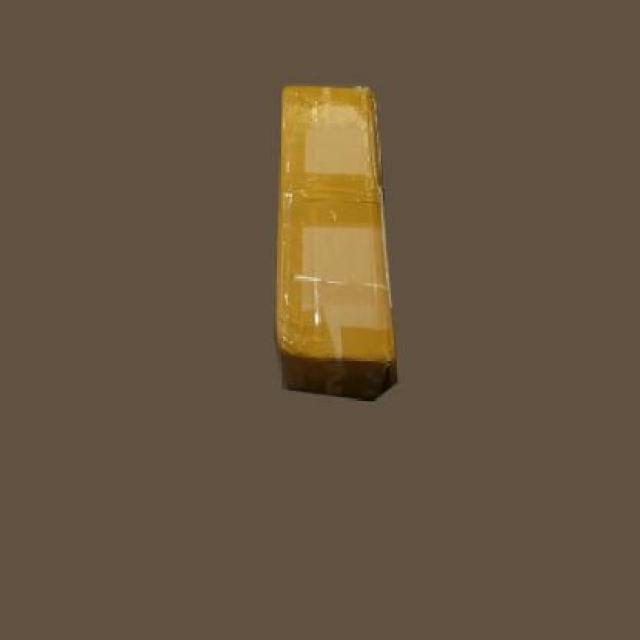cardboxes: (277, 87, 398, 390)
